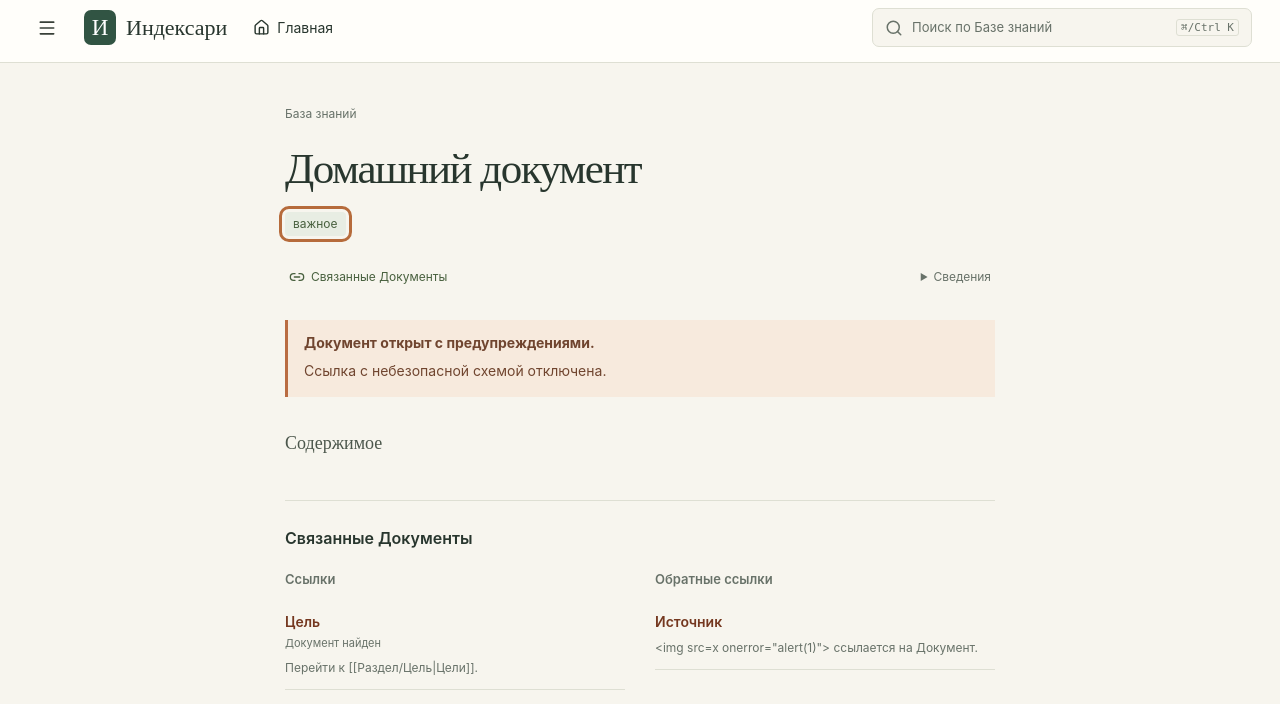
Test: Atlas › focuses search, traps it, and returns to the invoking tag
The image size is (1280, 704).
Click the button "важное". click: click(315, 224)
box: [285,212,346,236]
(page scrolled)
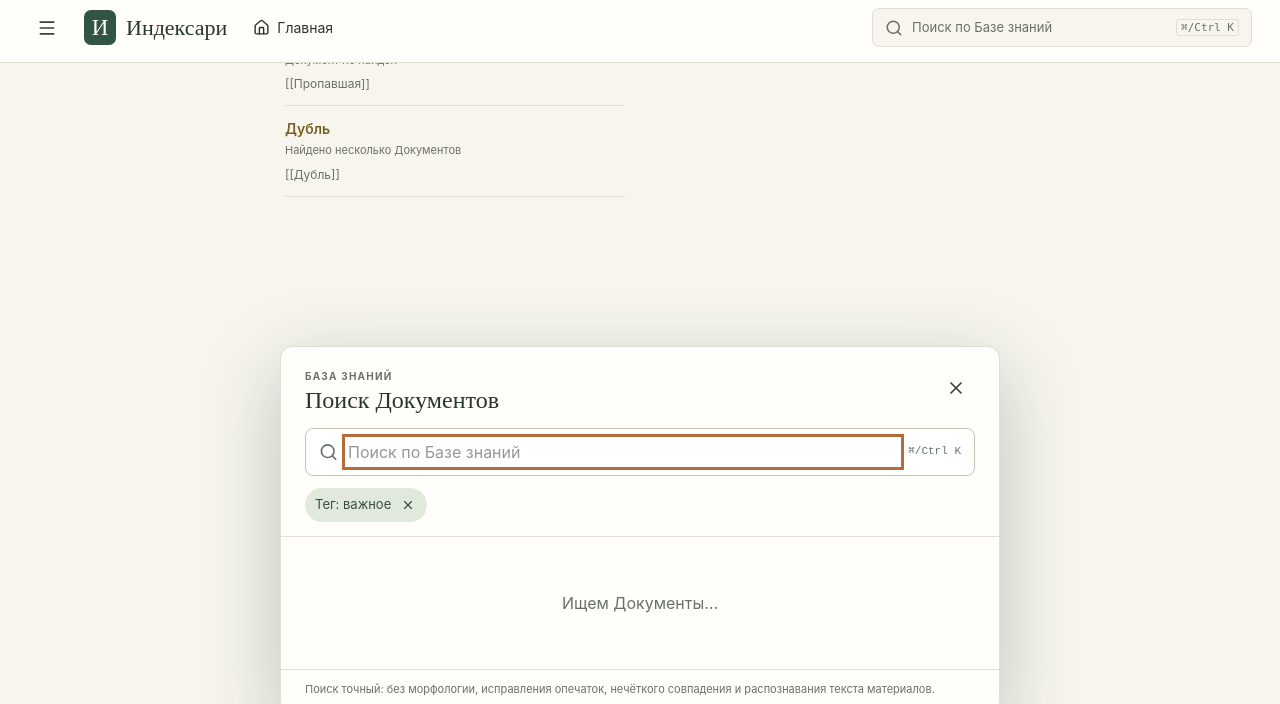
Press Escape
(page scrolled)
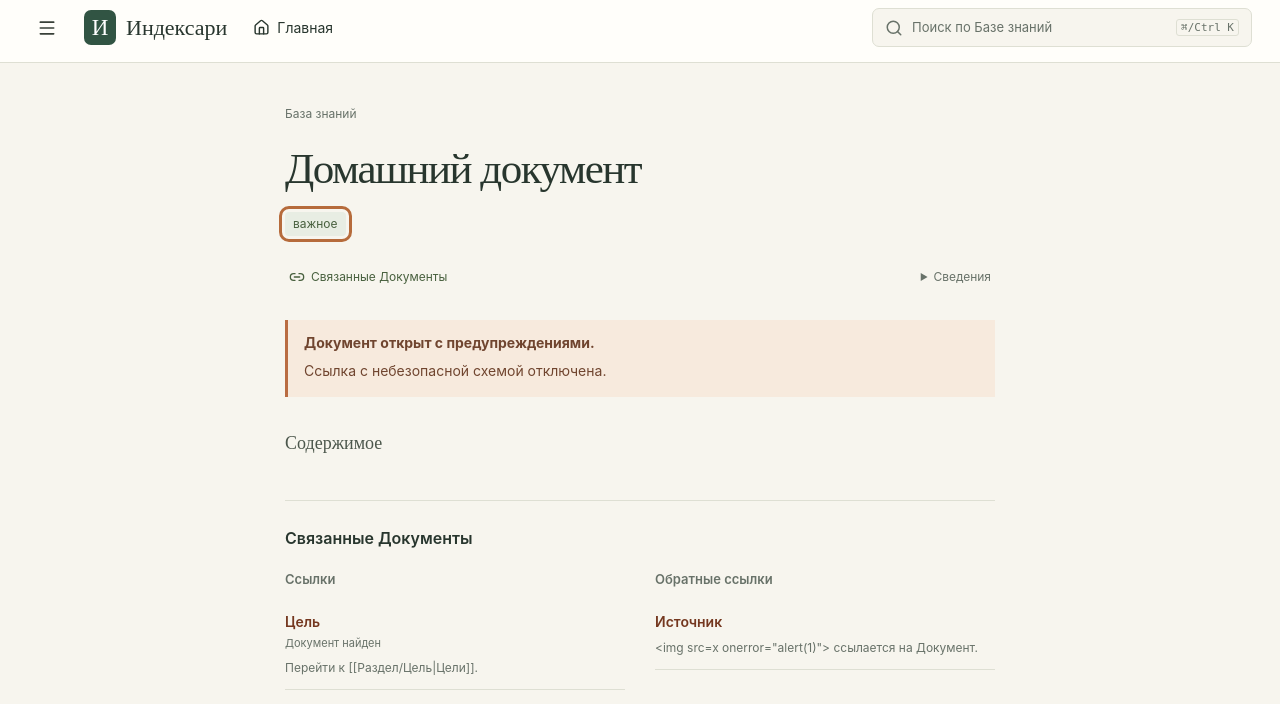
Expected: the heading "Поиск Документов" is gone
